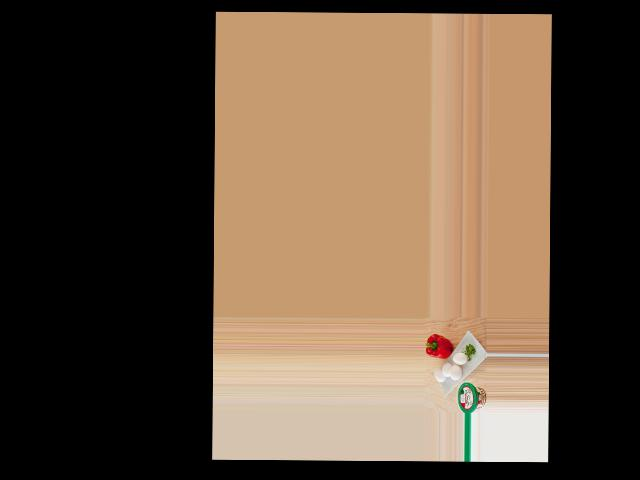bell_pepper: (426, 332, 452, 363)
